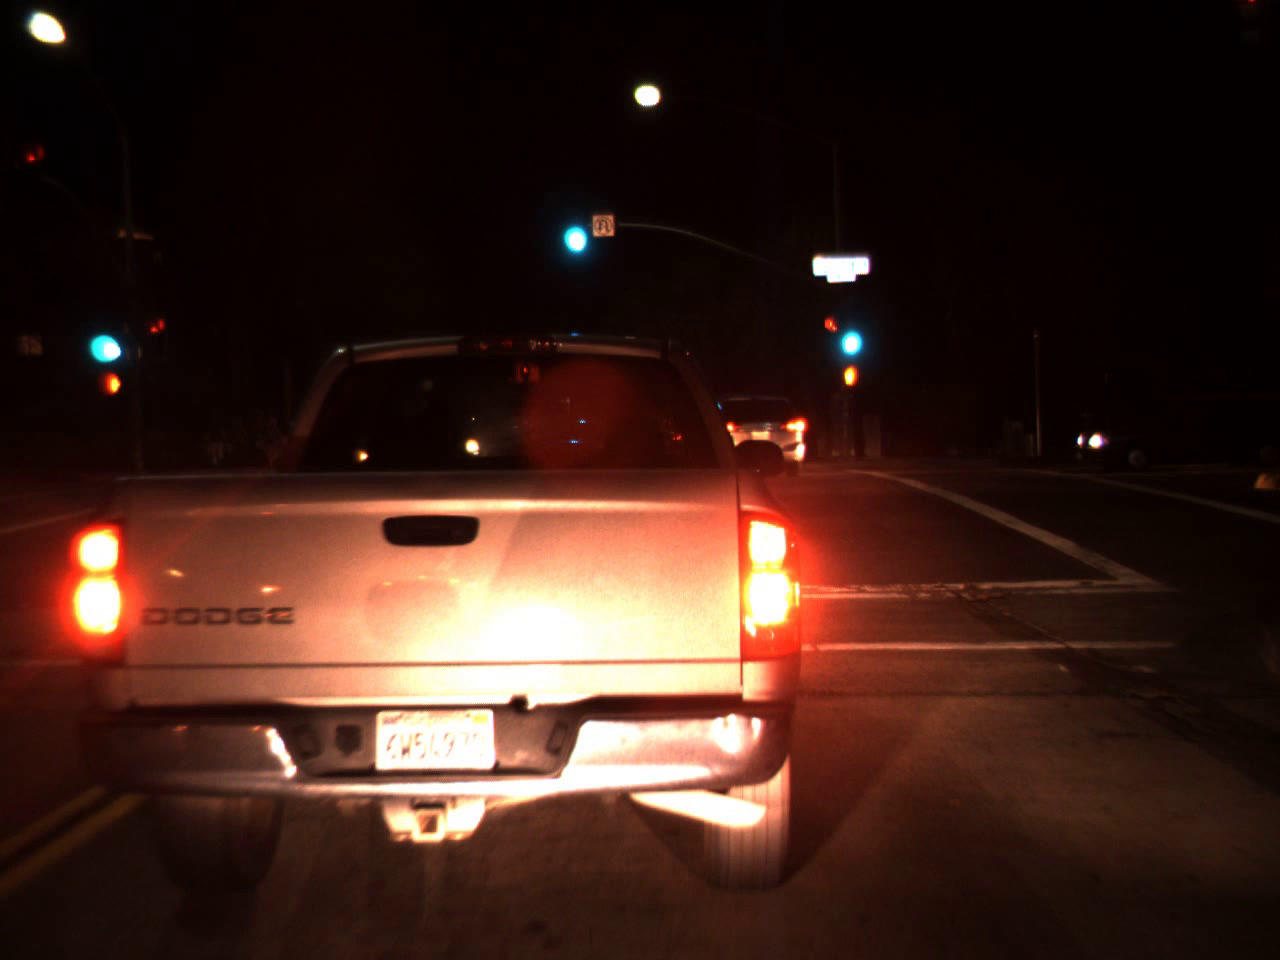go: (81, 298, 120, 373), (554, 192, 591, 264), (833, 299, 866, 365)
